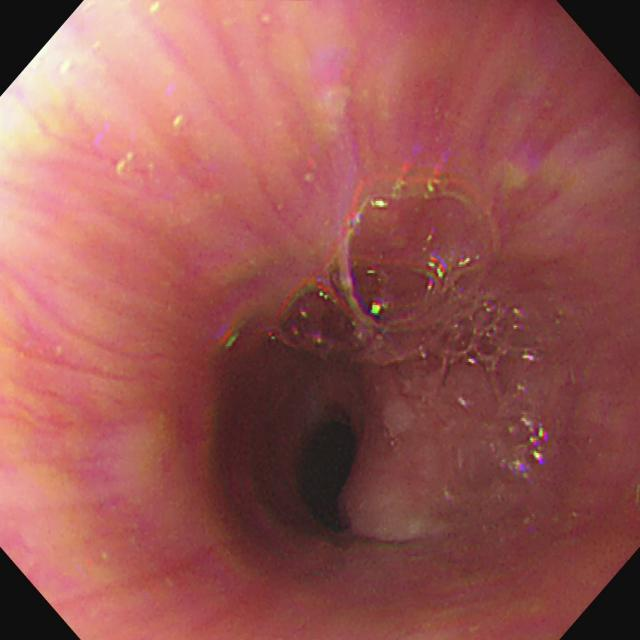E: (294, 402, 361, 549)
T: (277, 178, 545, 398)
U: (501, 414, 551, 479)
